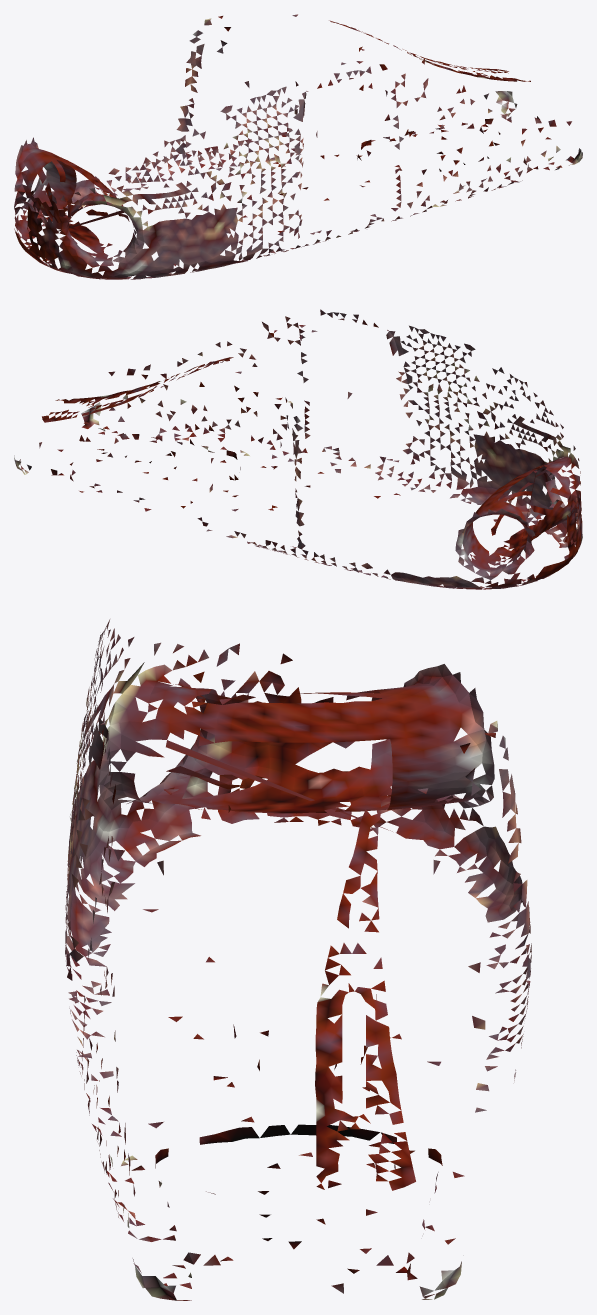
The model's file is whistle_final800.obj.
3 renders of one model, top to bottom at view 1: azimuth 30°, elevation 25°; view 2: azimuth 150°, elevation 25°; view 3: azimuth 270°, elevation 25°, orthographic. The views are drawn at different scales.
Size of the model in its own units: 1.92 by 0.5749 by 0.7489.
